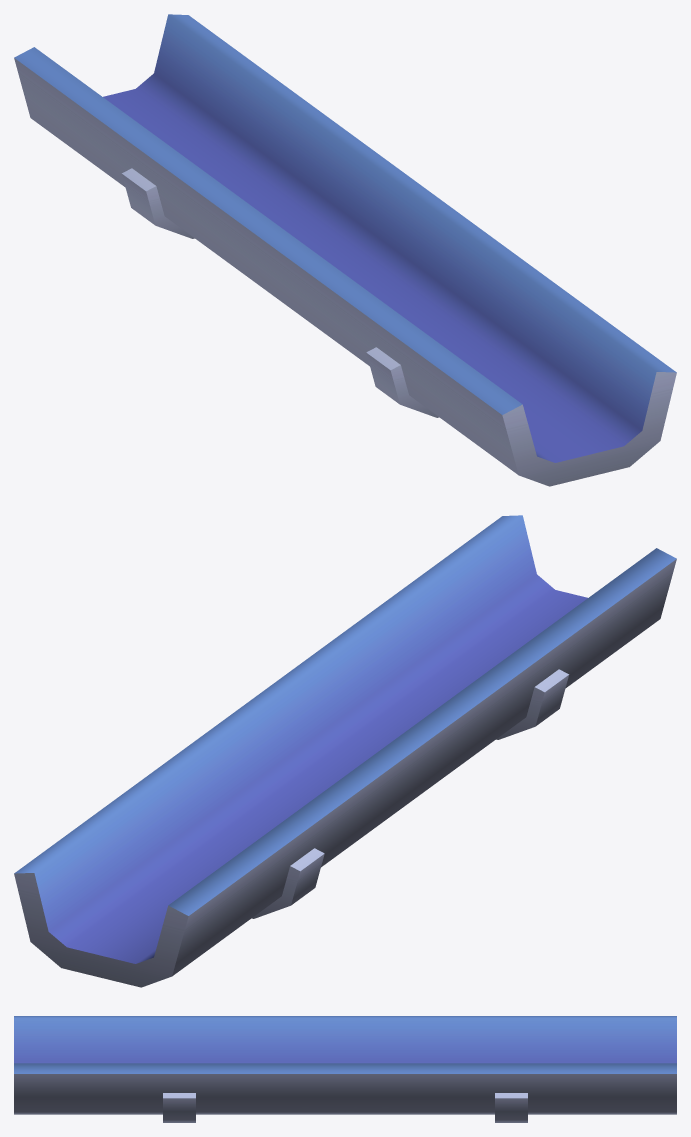
Rendered from kenney-coaster-coaster-flume-straight.glb.
3 views of the same model, one above another, from view 1: azimuth 30°, elevation 25°; view 2: azimuth 150°, elevation 25°; view 3: azimuth 270°, elevation 25° (orthographic). The views are drawn at different scales.
Visible parts, largest first — view 1: coaster-flume-straight; view 2: coaster-flume-straight; view 3: coaster-flume-straight.
Part boxes in pixels (<box>): coaster-flume-straight: <box>14,14,676,486</box>; coaster-flume-straight: <box>14,515,676,987</box>; coaster-flume-straight: <box>14,1016,676,1122</box>.
Size of the model in its own units: 0.8448 by 0.4507 by 4.
Materials: 1 (1 with a texture image).
